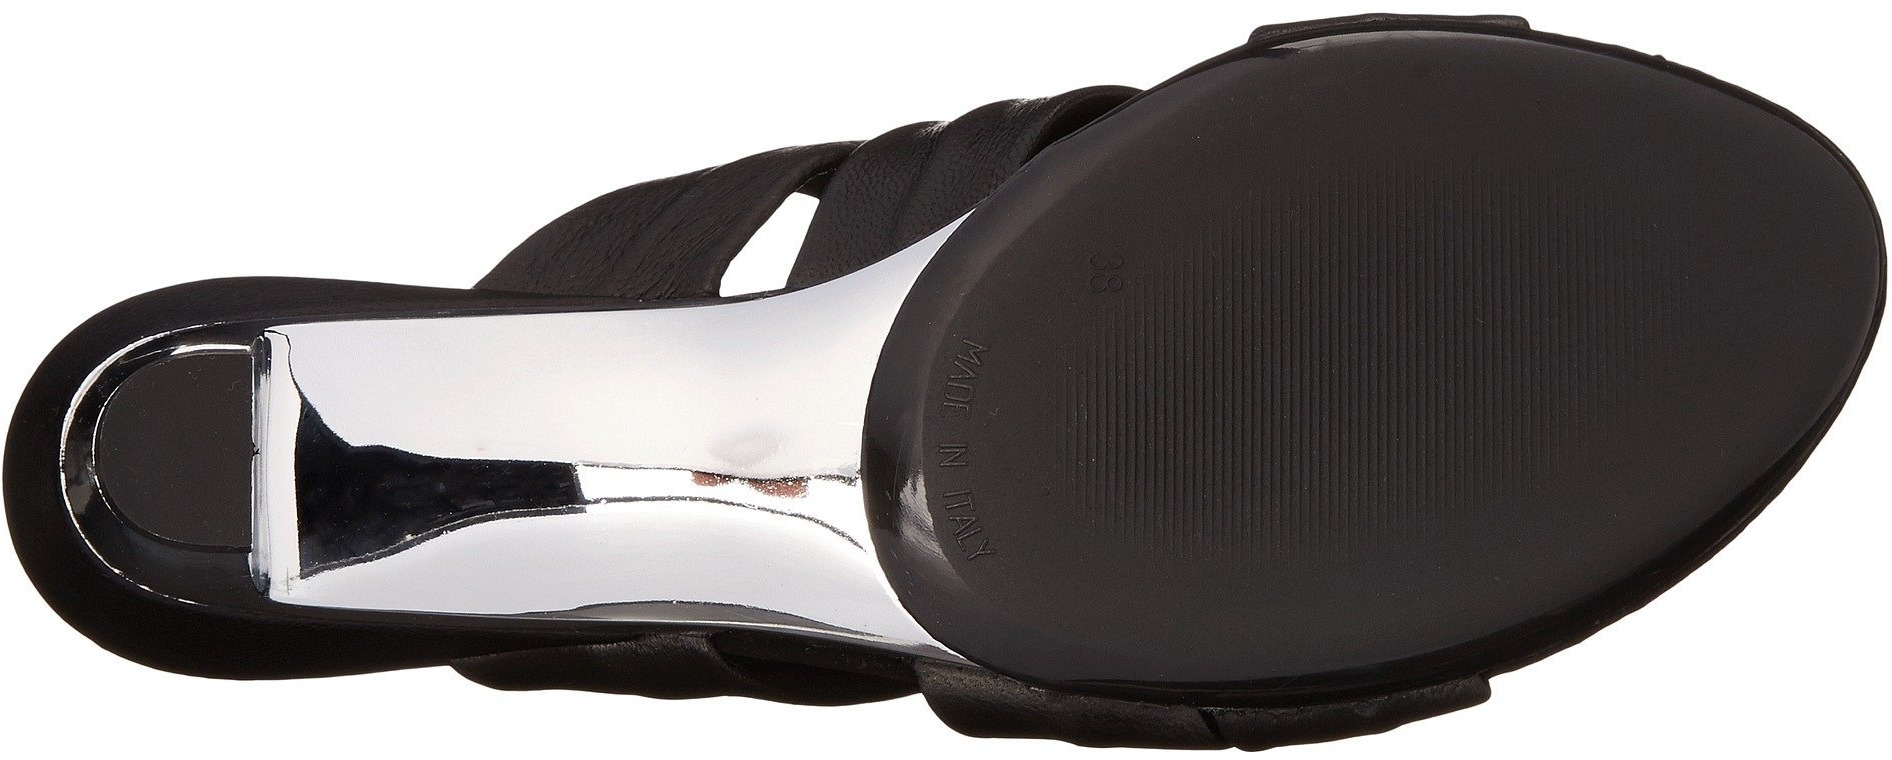other: (1477, 191, 1717, 381), (1261, 157, 1475, 338), (1056, 331, 1259, 518), (1263, 345, 1475, 522), (1059, 553, 1202, 686), (1215, 561, 1344, 685), (115, 391, 235, 514), (1091, 135, 1213, 249)
text: (938, 495, 1024, 568), (941, 343, 1005, 405), (932, 431, 989, 486)
